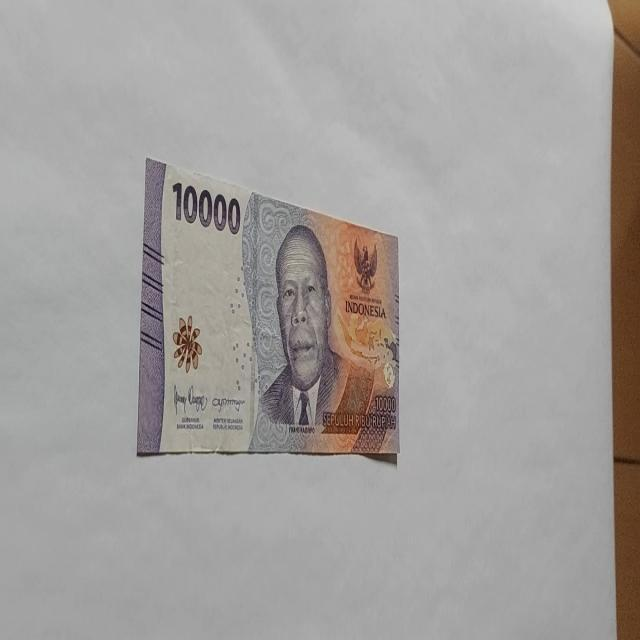sepuluh ribu rupiah: (136, 156, 401, 460), (246, 222, 376, 452)
